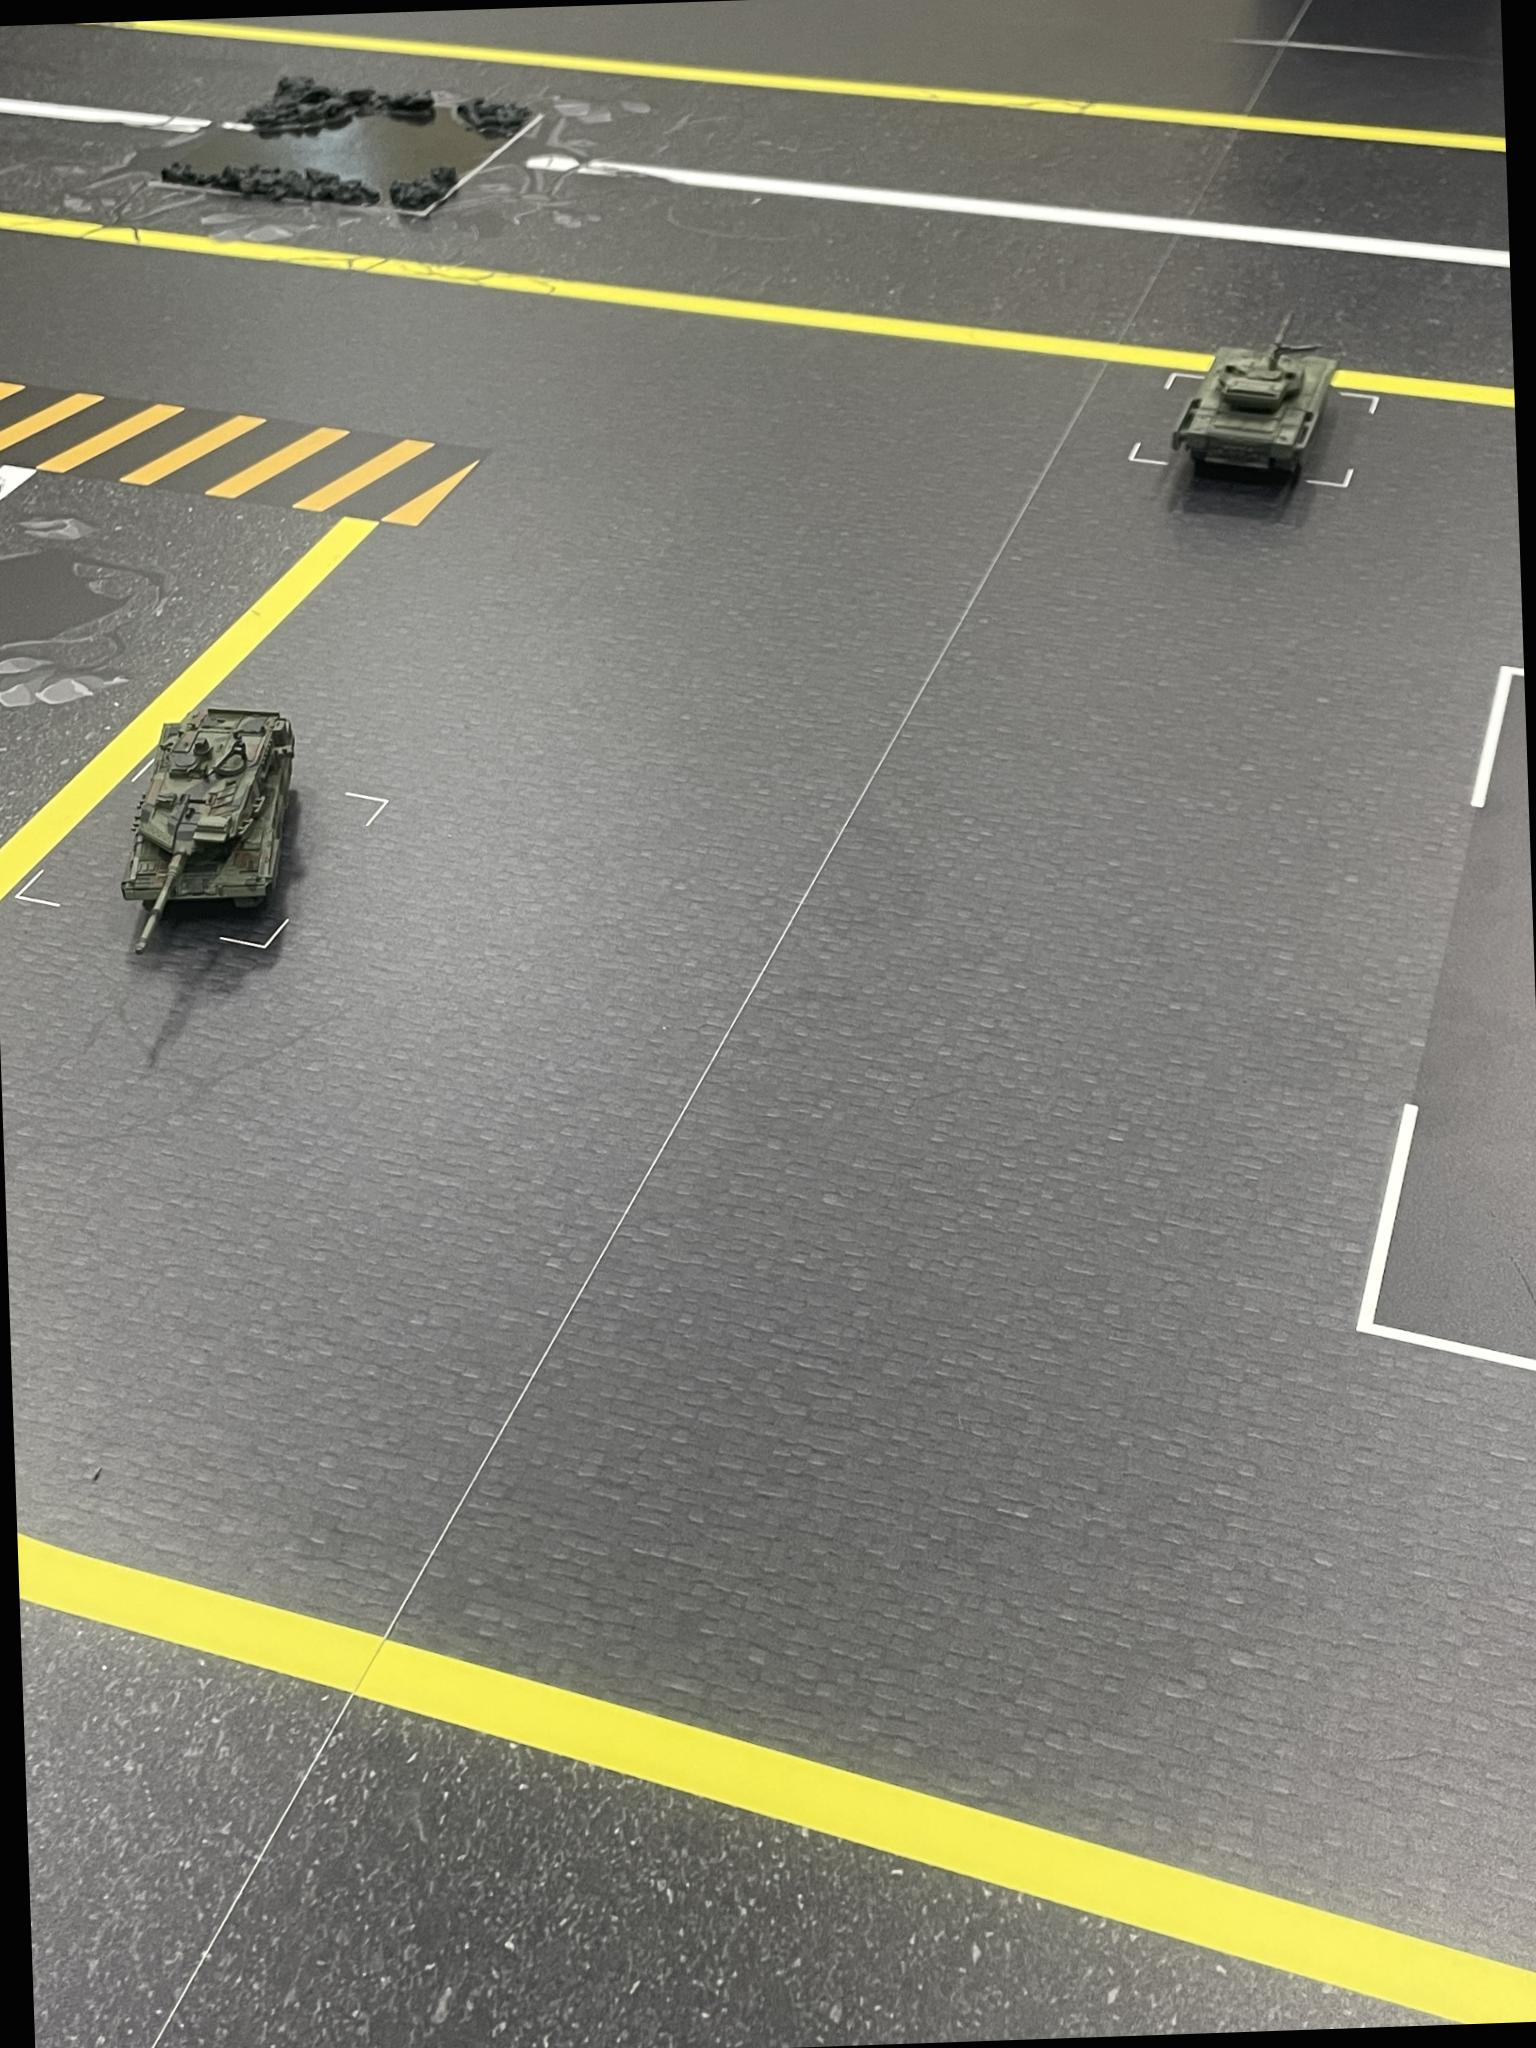Tank: (119, 679, 310, 977), (1171, 318, 1342, 479)
